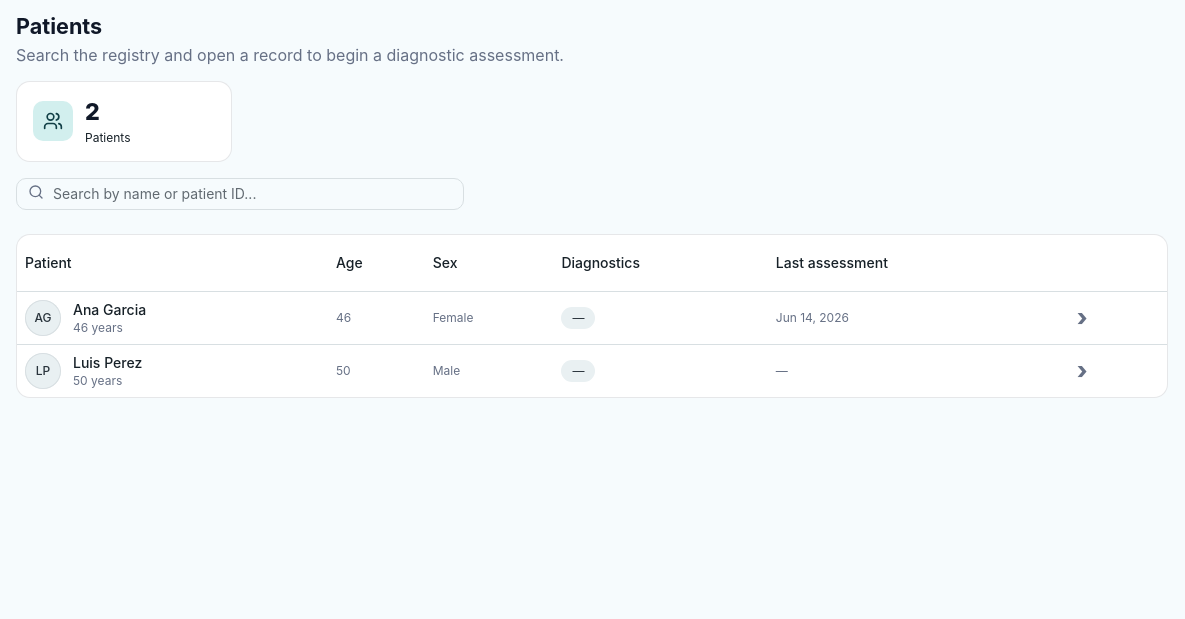
Scenario: UC-01 AC-01 diagnostic history UI › GIVEN a medical user WHEN selecting a patient THEN displays diagnostic history
Click the button with aria-label "ana garcia clinical record" at coordinates (86, 318), box 25,300 -> 146,336
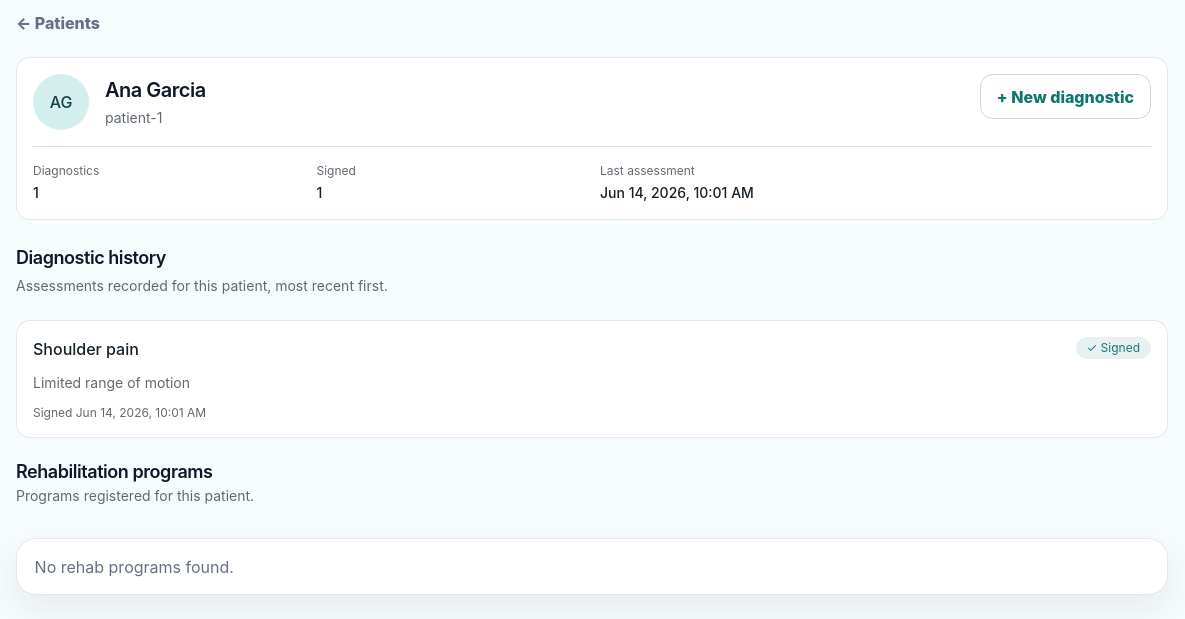
Expected: the number of buttons "Shoulder pain" is 1, 33,337 -> 139,361
Expected: the text "Limited range of motion" is shown, 33,374 -> 190,391
